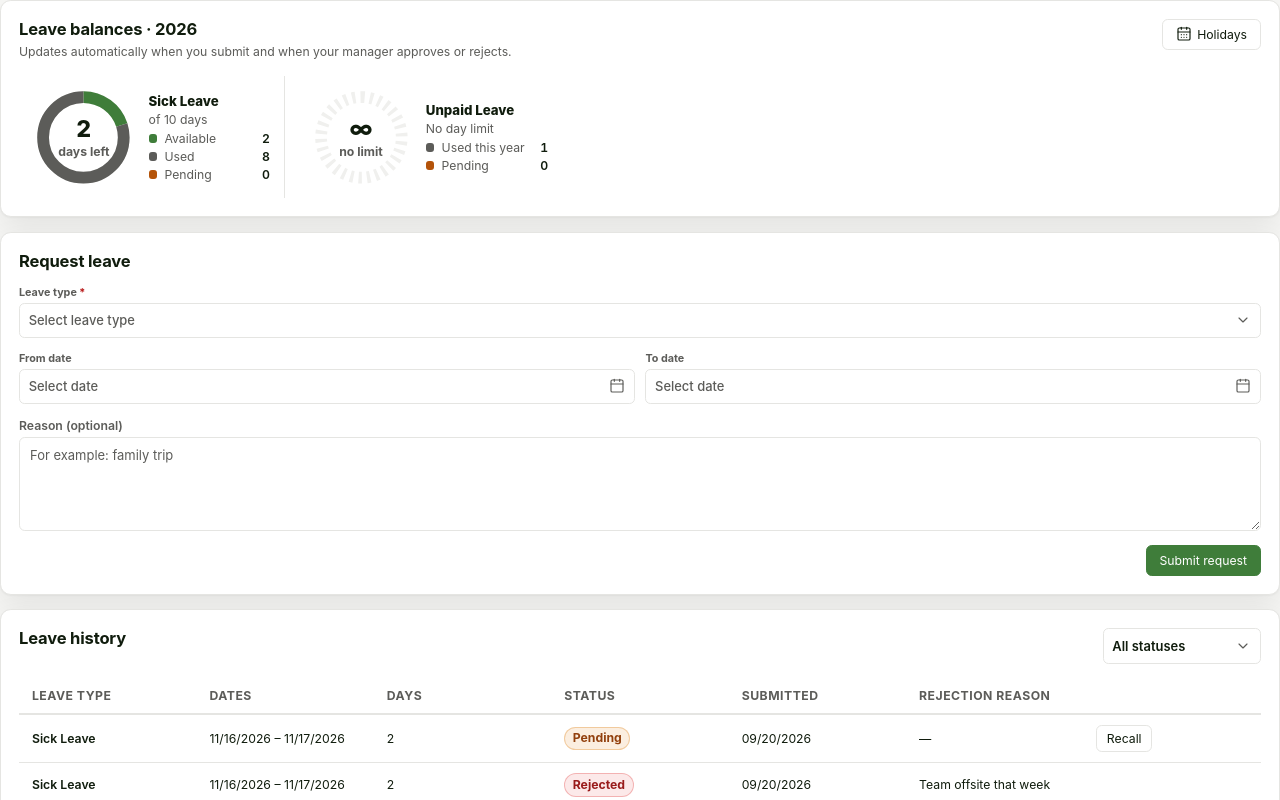
Test: LeavesWorkspace › deletes a recalled request after confirmation
Click the button "Recall". click: (1124, 738)
box: [1096, 725, 1152, 752]
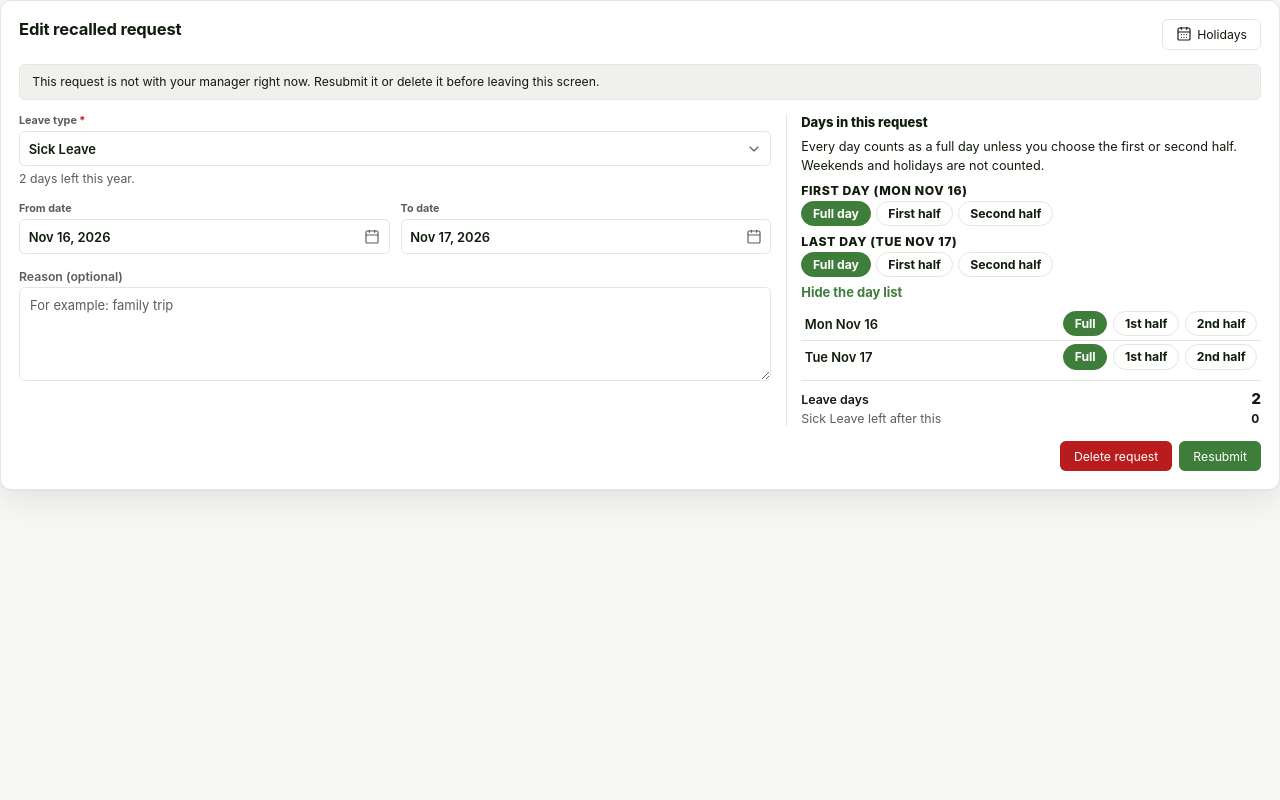
Click the button "Delete request". click: (1116, 456)
box: [1060, 440, 1172, 472]
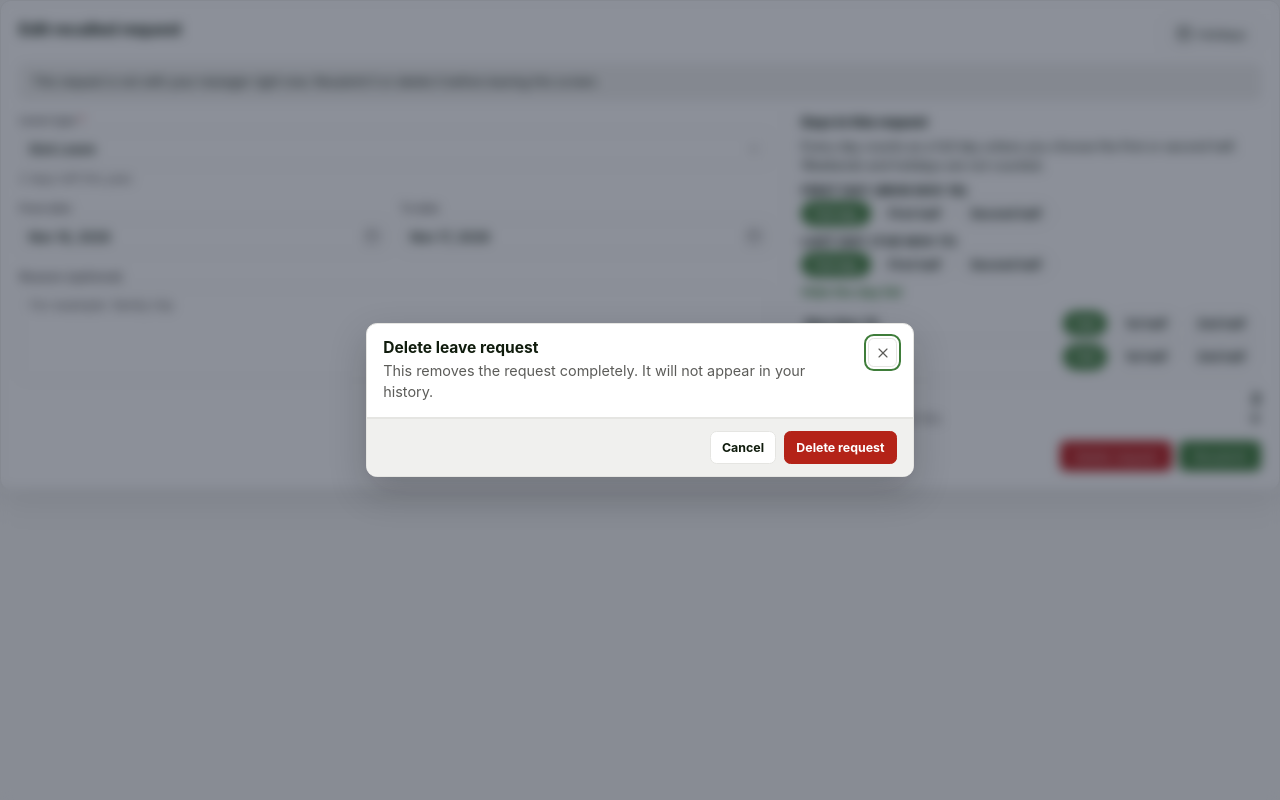
Click the button "Delete request". click: (840, 448)
box: [784, 431, 897, 464]
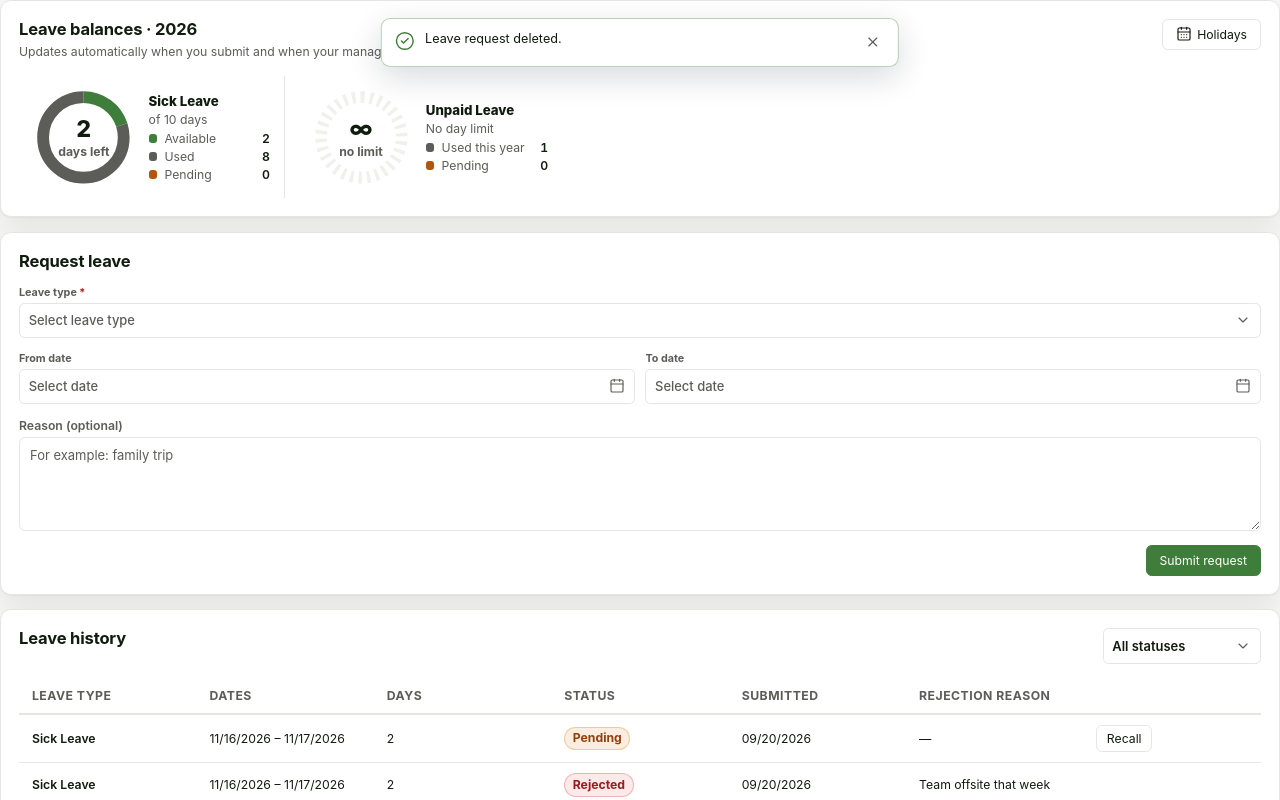
Expected: the text "Leave request deleted." is shown, [425, 31, 562, 46]
